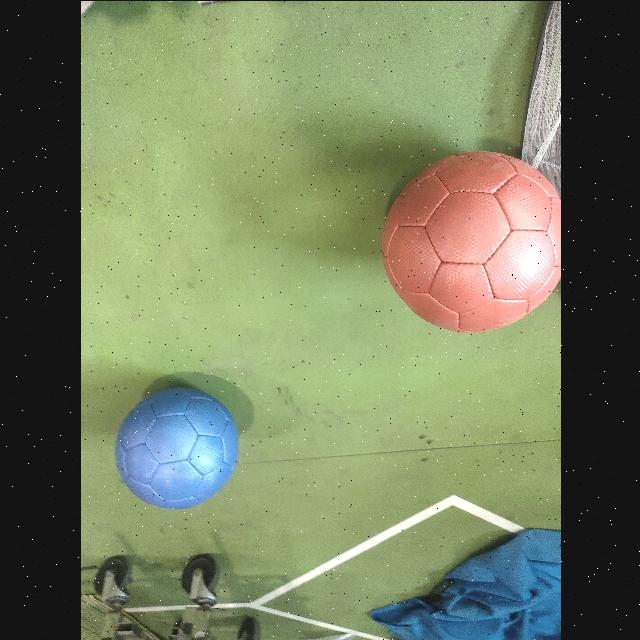B: (116, 386, 238, 506)
R: (380, 148, 560, 332)
